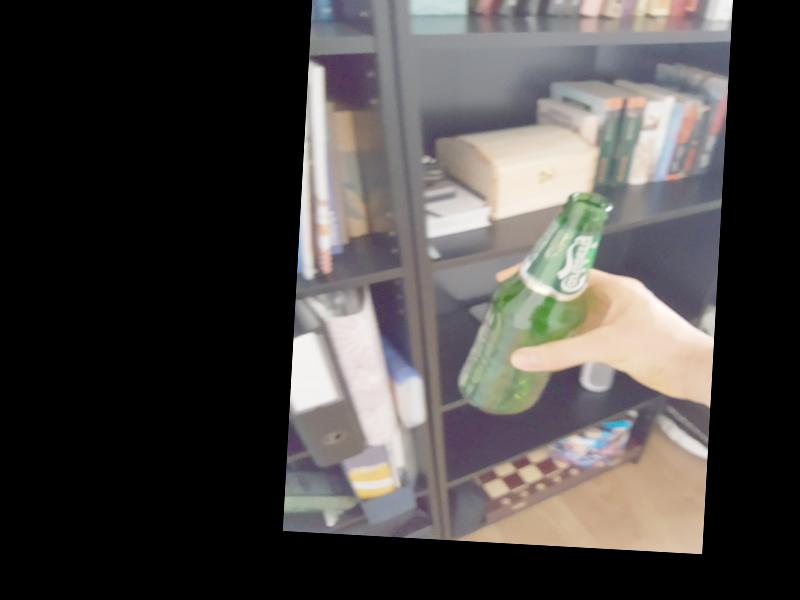Beer: (453, 186, 610, 419)
